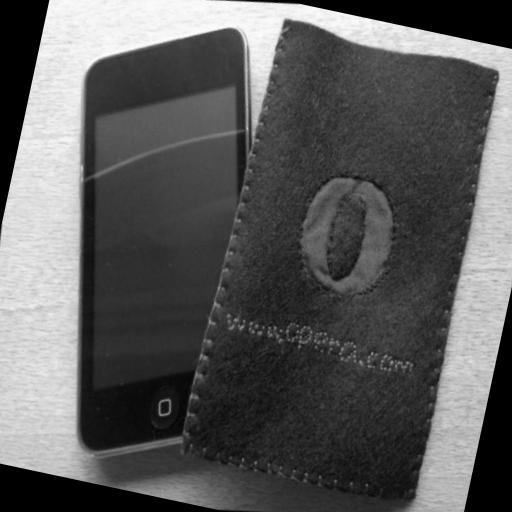phone: (74, 21, 255, 452)
